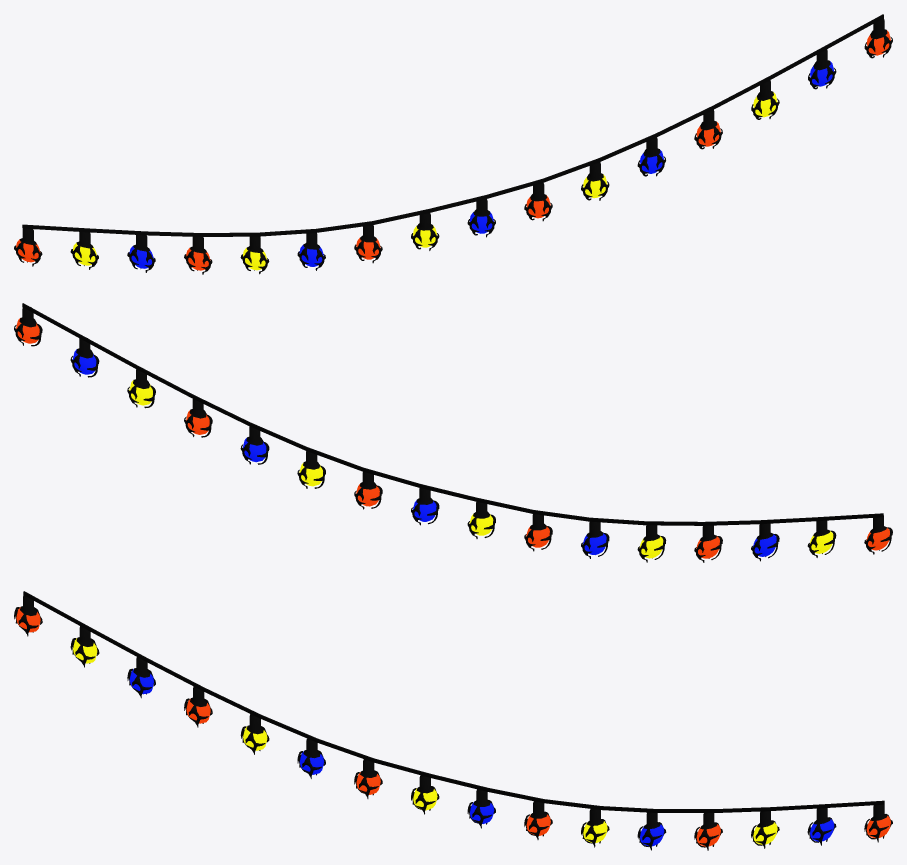
Rendered from light.fbx.
The picture shows the model from 3 angles, top to bottom: view 1: azimuth 30°, elevation 25°; view 2: azimuth 150°, elevation 25°; view 3: azimuth 330°, elevation 25°; orthographic projection.
Visible parts, largest first — view 1: Sphere.016, Sphere.015, Sphere.014, Sphere.012, Sphere.011, Sphere.013, Sphere.010, Sphere.009, Sphere.007, Sphere.008, Sphere.005, Sphere.006 (+5 smaller); view 2: Sphere.016, Sphere.015, Sphere.012, Sphere.014, Sphere.013, Sphere.011, Sphere.010, Sphere.009, Sphere.008, Sphere.006, Sphere.007, Sphere.003 (+5 smaller); view 3: Sphere.016, Sphere.001, Sphere.002, Sphere.003, Sphere.004, Sphere.005, Sphere, Sphere.006, Sphere.007, Sphere.009, Sphere.008, Sphere.010 (+5 smaller).
Part boxes in pixels (<box>): Sphere.016: <box>22,14,883,236</box>; Sphere.015: <box>864,18,892,58</box>; Sphere.014: <box>808,49,836,89</box>; Sphere.012: <box>694,109,722,149</box>; Sphere.011: <box>637,137,665,176</box>; Sphere.013: <box>751,80,779,119</box>; Sphere.010: <box>581,162,609,200</box>; Sphere.009: <box>524,183,552,221</box>; Sphere.007: <box>411,213,439,250</box>; Sphere.008: <box>467,199,495,237</box>; Sphere.005: <box>297,233,325,270</box>; Sphere.006: <box>354,225,382,263</box>; Sphere.016: <box>22,303,883,525</box>; Sphere.015: <box>14,307,42,346</box>; Sphere.012: <box>184,399,212,437</box>; Sphere.014: <box>70,338,99,377</box>; Sphere.013: <box>127,369,155,408</box>; Sphere.011: <box>240,426,269,464</box>; Sphere.010: <box>297,451,325,488</box>; Sphere.009: <box>354,472,382,509</box>; Sphere.008: <box>411,488,439,525</box>; Sphere.006: <box>524,514,552,551</box>; Sphere.007: <box>467,502,495,538</box>; Sphere.003: <box>694,525,722,562</box>; Sphere.016: <box>23,591,884,812</box>; Sphere.001: <box>70,626,99,667</box>; Sphere.002: <box>127,657,155,698</box>; Sphere.003: <box>184,686,212,727</box>; Sphere.004: <box>240,714,269,754</box>; Sphere.005: <box>297,738,325,778</box>; Sphere: <box>14,595,42,636</box>; Sphere.006: <box>354,759,382,798</box>; Sphere.007: <box>411,775,439,814</box>; Sphere.009: <box>524,801,552,839</box>; Sphere.008: <box>467,789,495,828</box>; Sphere.010: <box>581,809,609,847</box>.
Bounding box in the file's own units: 39.07 × 5.25 × 1.18.
